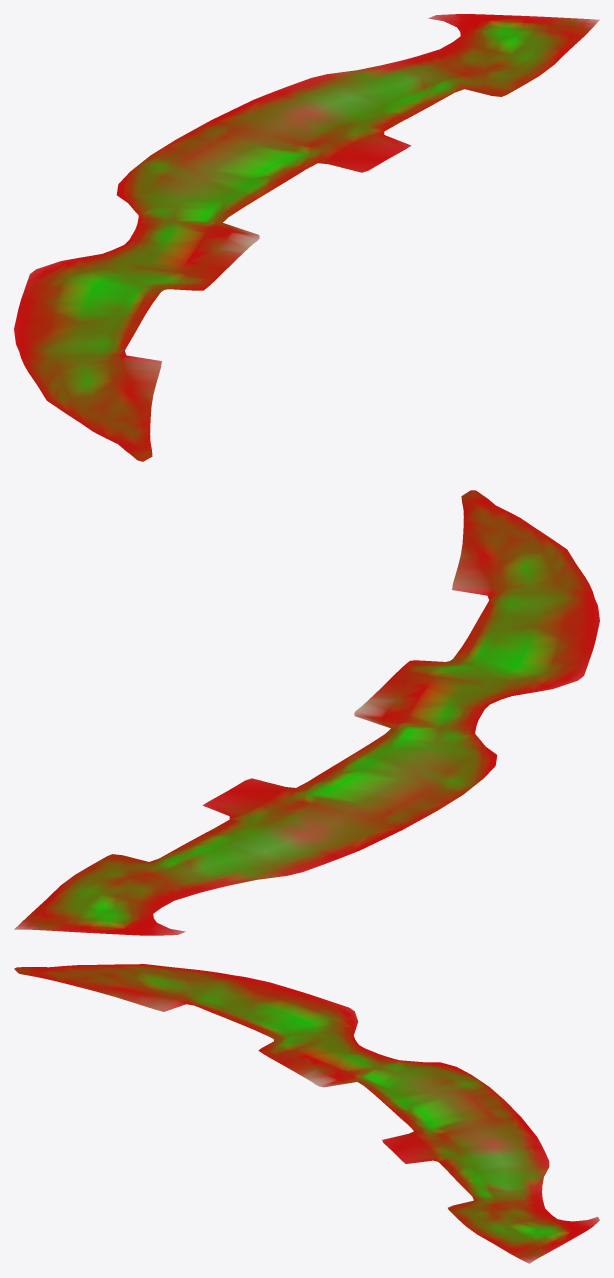
File: pref_sm_beach_winter_grassground02c_lv3.fbx
3 renders of one model, top to bottom at view 1: azimuth 30°, elevation 25°; view 2: azimuth 210°, elevation 25°; view 3: azimuth 270°, elevation 25°, orthographic. The views are drawn at different scales.
Visible parts, largest first — view 1: pref_sm_beach_winter_grassground02c_lv3; view 2: pref_sm_beach_winter_grassground02c_lv3; view 3: pref_sm_beach_winter_grassground02c_lv3.
Boxes of the visible parts, x1,y1,x2,y2 form: pref_sm_beach_winter_grassground02c_lv3: (14,14,599,461); pref_sm_beach_winter_grassground02c_lv3: (14,490,599,935); pref_sm_beach_winter_grassground02c_lv3: (14,964,599,1263).
Bounding box in the file's own units: 45.5 × 0.1186 × 37.55.
